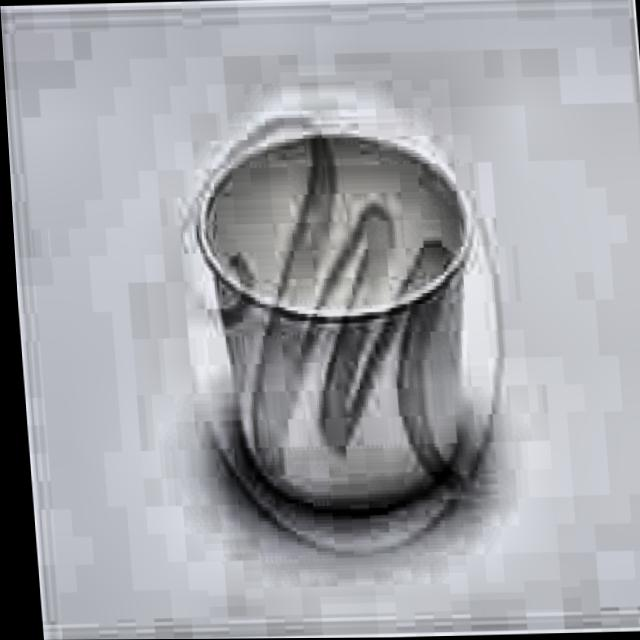Cup: (198, 116, 491, 520)
